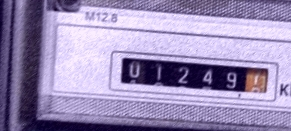0: (126, 57, 142, 79)
1: (151, 60, 163, 81)
2: (175, 63, 190, 85)
4: (200, 65, 213, 85)
7: (248, 66, 262, 86)
9: (223, 68, 238, 90)
screen: (99, 41, 278, 107)
